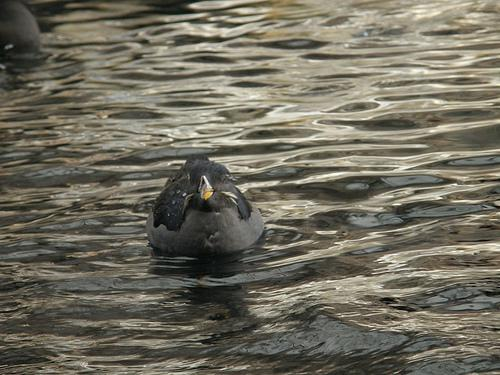005.Crested_Auklet: (144, 152, 266, 258)
